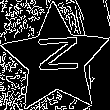N_W: (31, 38, 81, 81)
